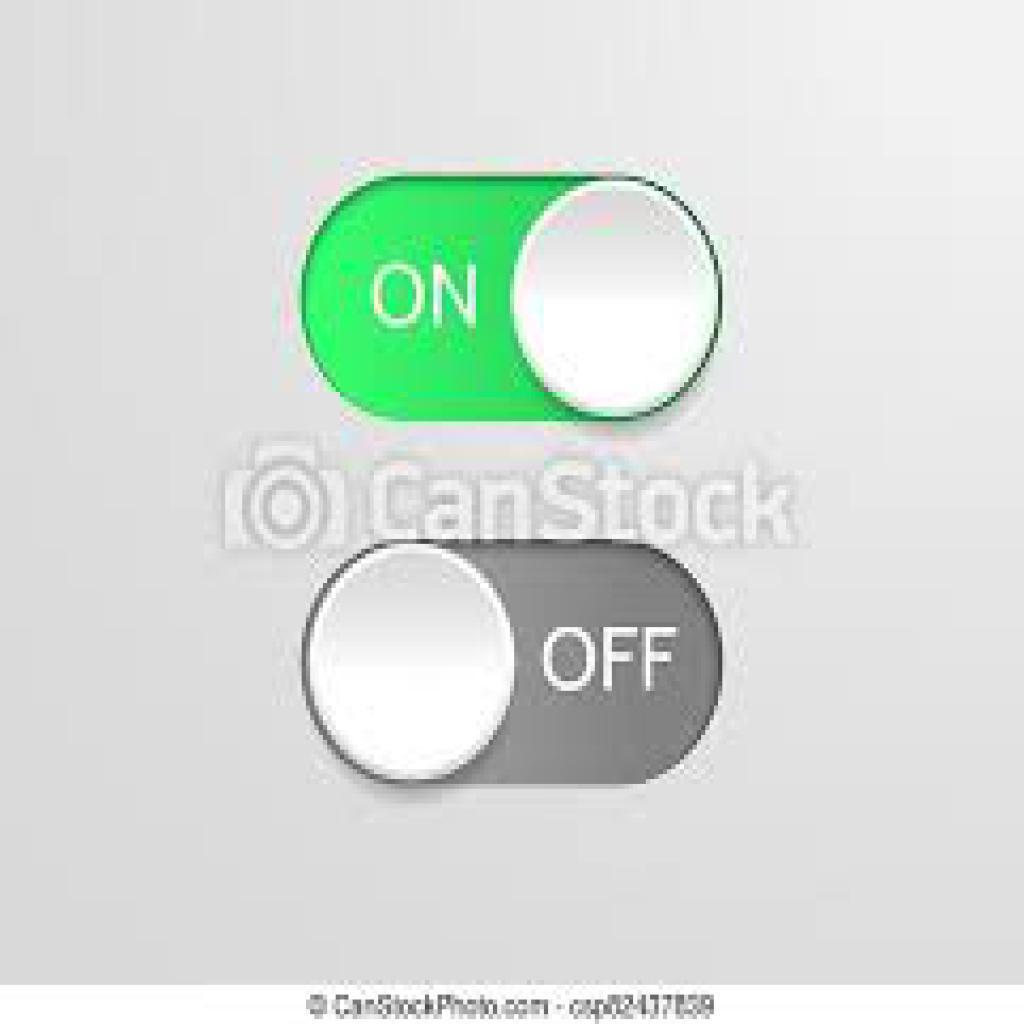switch: (303, 173, 726, 425), (302, 538, 725, 786)
